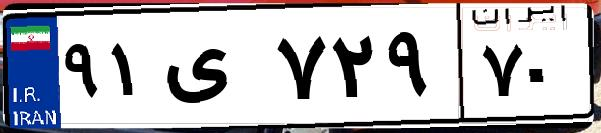0: (525, 38, 570, 115)
1: (110, 28, 158, 98)
2: (330, 28, 385, 110)
7: (270, 28, 330, 110), (475, 38, 525, 113)
9: (385, 28, 445, 110), (57, 26, 110, 100)
ی: (158, 20, 270, 120)
